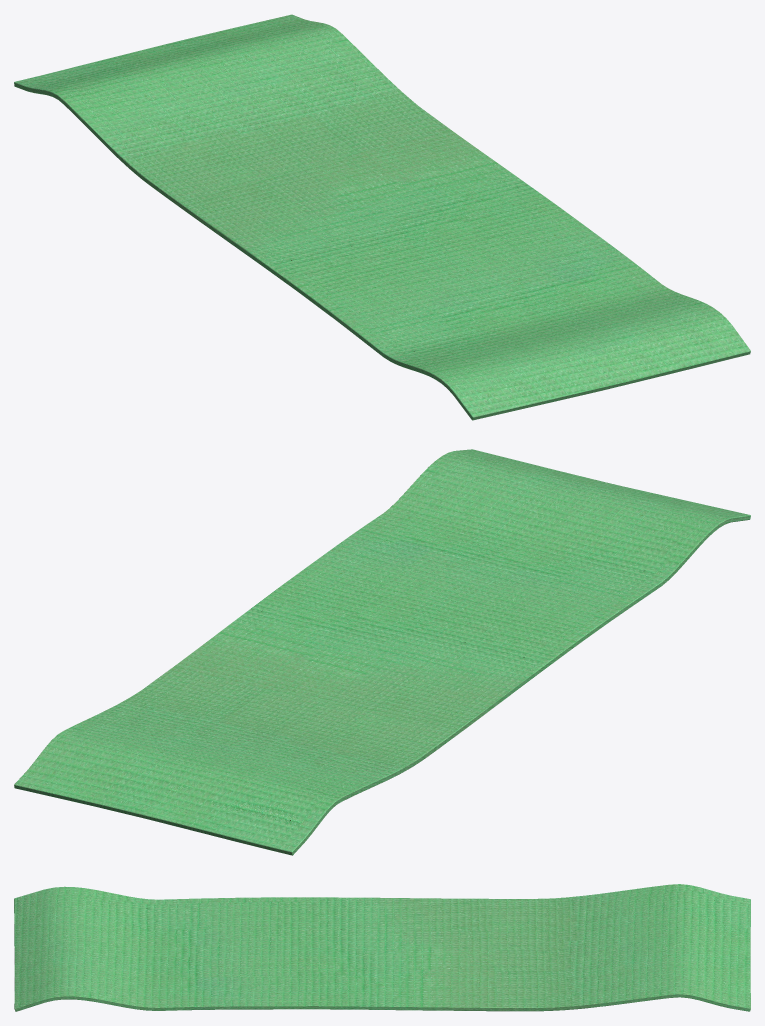
3 views of the same model, one above another, from view 1: azimuth 30°, elevation 25°; view 2: azimuth 150°, elevation 25°; view 3: azimuth 270°, elevation 25° (orthographic). The views are drawn at different scales.
Visible parts, largest first — view 1: mat 1; view 2: mat 1; view 3: mat 1.
Boxes of the visible parts, x1=… form: mat 1: x1=14, y1=14, x2=750, y2=420; mat 1: x1=14, y1=449, x2=750, y2=855; mat 1: x1=14, y1=884, x2=750, y2=1011.
Bounding box in the file's own units: 60 × 5.13 × 171.
